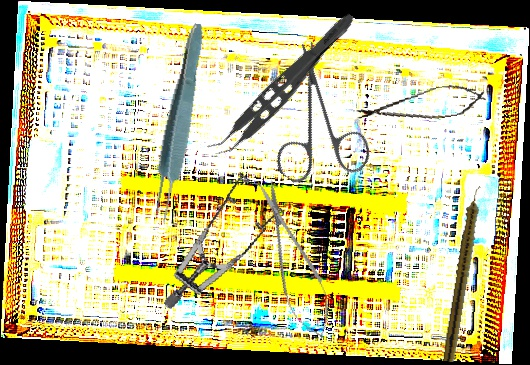Handpiece: (442, 184, 486, 364)
Iris Scissors: (232, 38, 405, 211)
Micro Scissor: (245, 174, 342, 346), (354, 79, 489, 132)
Speculum: (133, 161, 302, 312)
Tissue Forceps: (204, 0, 360, 167), (145, 21, 212, 226)
